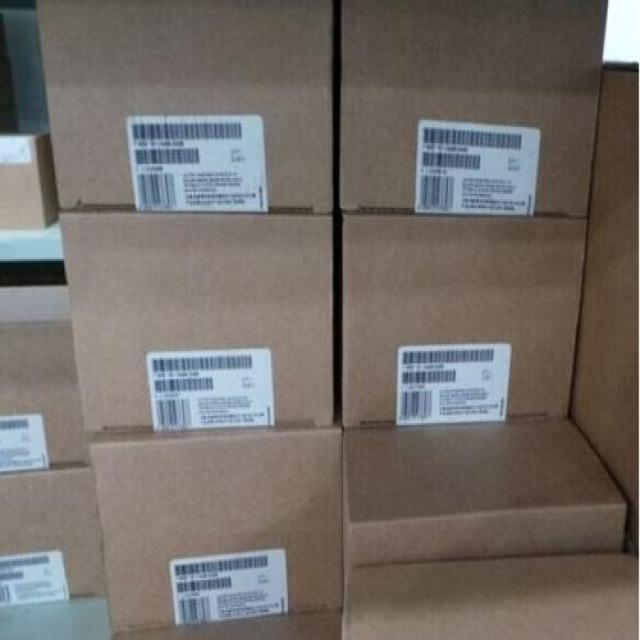box: (59, 213, 340, 441), (36, 2, 334, 213), (334, 0, 609, 215), (87, 423, 342, 640), (333, 213, 589, 427), (342, 416, 628, 571), (571, 60, 639, 552), (340, 552, 637, 638), (0, 464, 108, 608), (0, 317, 90, 473), (0, 132, 59, 231)
